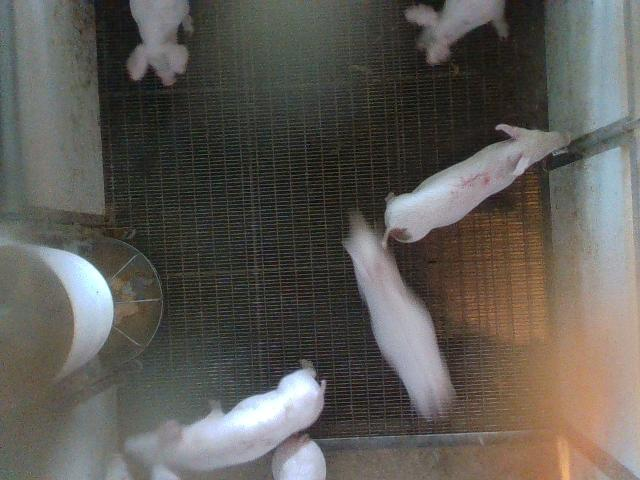pig-5: (386, 125, 569, 243)
